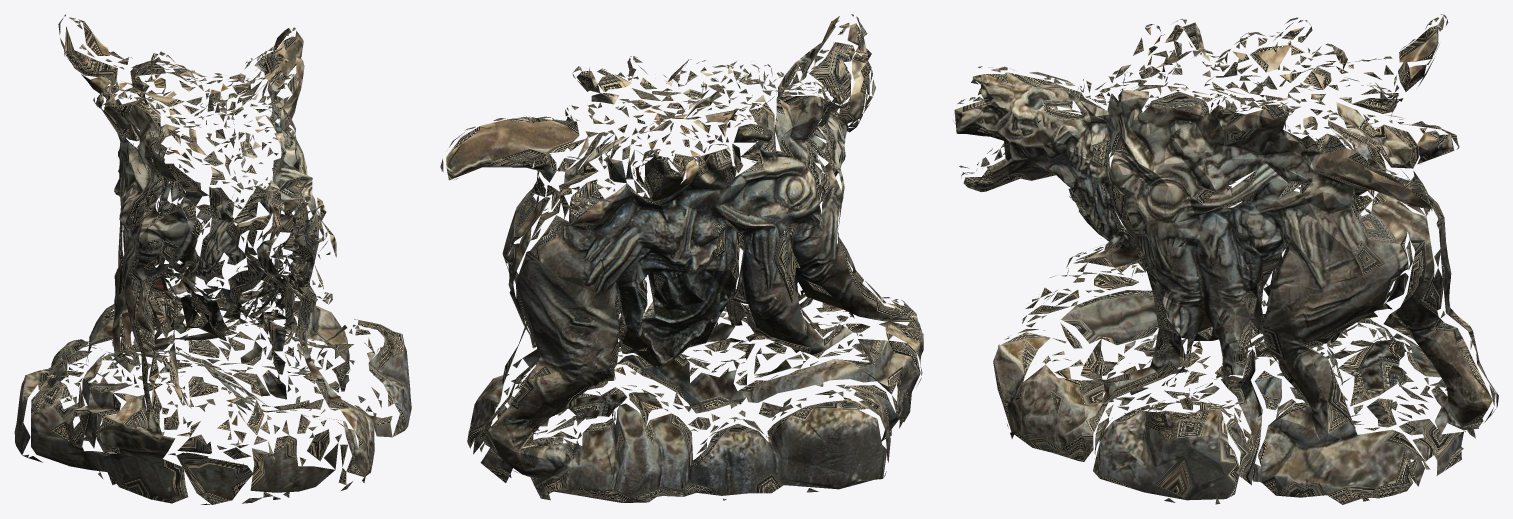
The model's file is wyrdbear.glb.
3 renders of one model, left to right at view 1: azimuth 30°, elevation 25°; view 2: azimuth 150°, elevation 25°; view 3: azimuth 270°, elevation 25°, orthographic. The views are drawn at different scales.
Parts seen in each view (by area): view 1: geometry_0; view 2: geometry_0; view 3: geometry_0.
Part boxes in pixels (x1,y1,x2,y2): geometry_0: (14, 14, 411, 504); geometry_0: (440, 14, 923, 502); geometry_0: (953, 14, 1498, 504).
Size of the model in its own units: 0.0221 by 0.0208 by 0.0276.
1 material, 1 textured.
